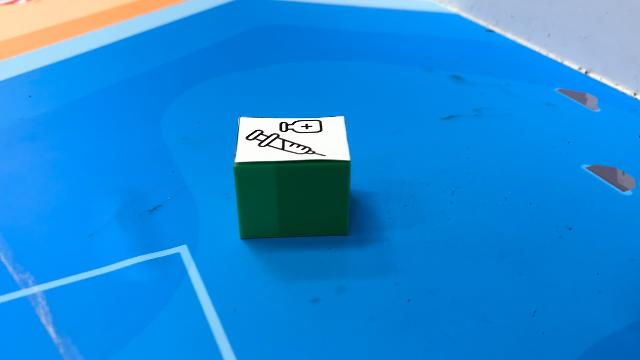syringe: (233, 115, 351, 239)
